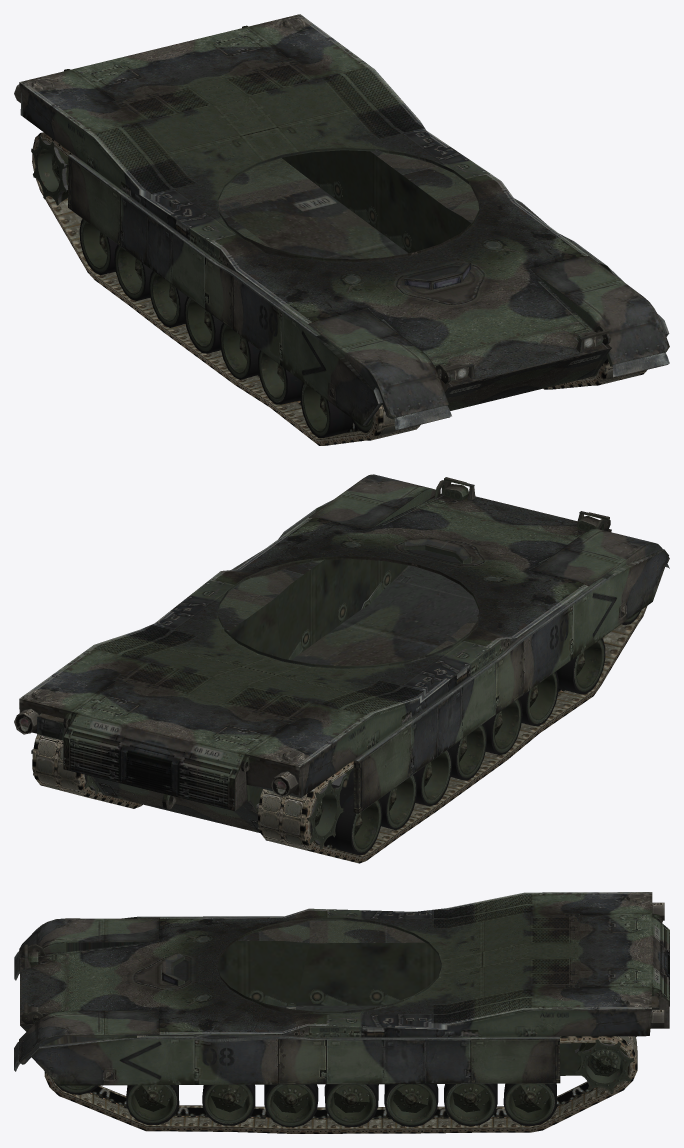
Rendered from tank.glb.
The picture shows the model from 3 angles, top to bottom: view 1: azimuth 30°, elevation 25°; view 2: azimuth 150°, elevation 25°; view 3: azimuth 270°, elevation 25°; orthographic projection. The views are drawn at different scales.
Parts seen in each view (by area): view 1: America_M1_JiShen; view 2: America_M1_JiShen; view 3: America_M1_JiShen.
Part boxes in pixels (x1,y1,x2,y2): America_M1_JiShen: [14, 14, 669, 445]; America_M1_JiShen: [14, 474, 669, 863]; America_M1_JiShen: [14, 892, 669, 1133].
Bounding box in the file's own units: 6.41 × 3.19 × 14.68.
2 materials, 2 textured.
